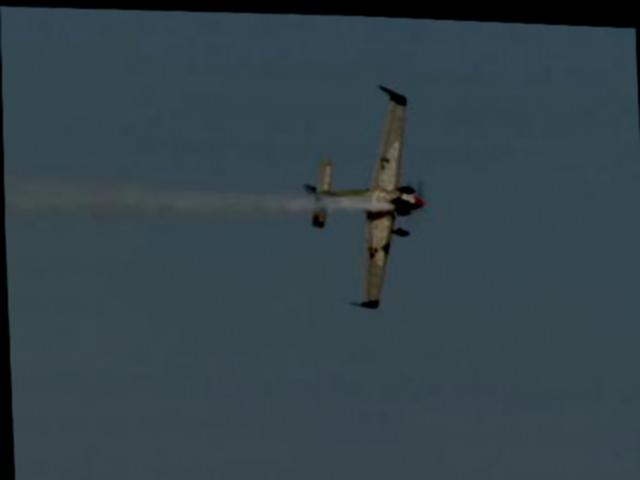uav: (292, 73, 433, 314)
